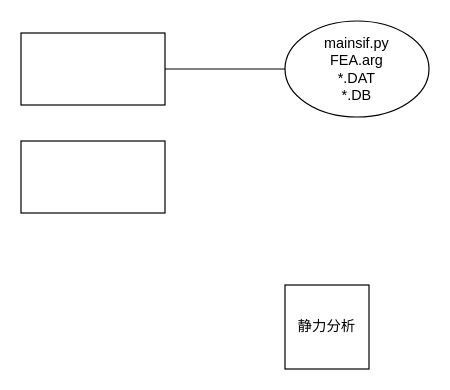
The diagram is 450 pixels wide and 390 high, and some of its shapes have lost their labels. Each missing label, with the centre of its shape:
"初始化、参数校验" goes at (x=92, y=176).
"前处理参数文件读取" goes at (x=92, y=68).
